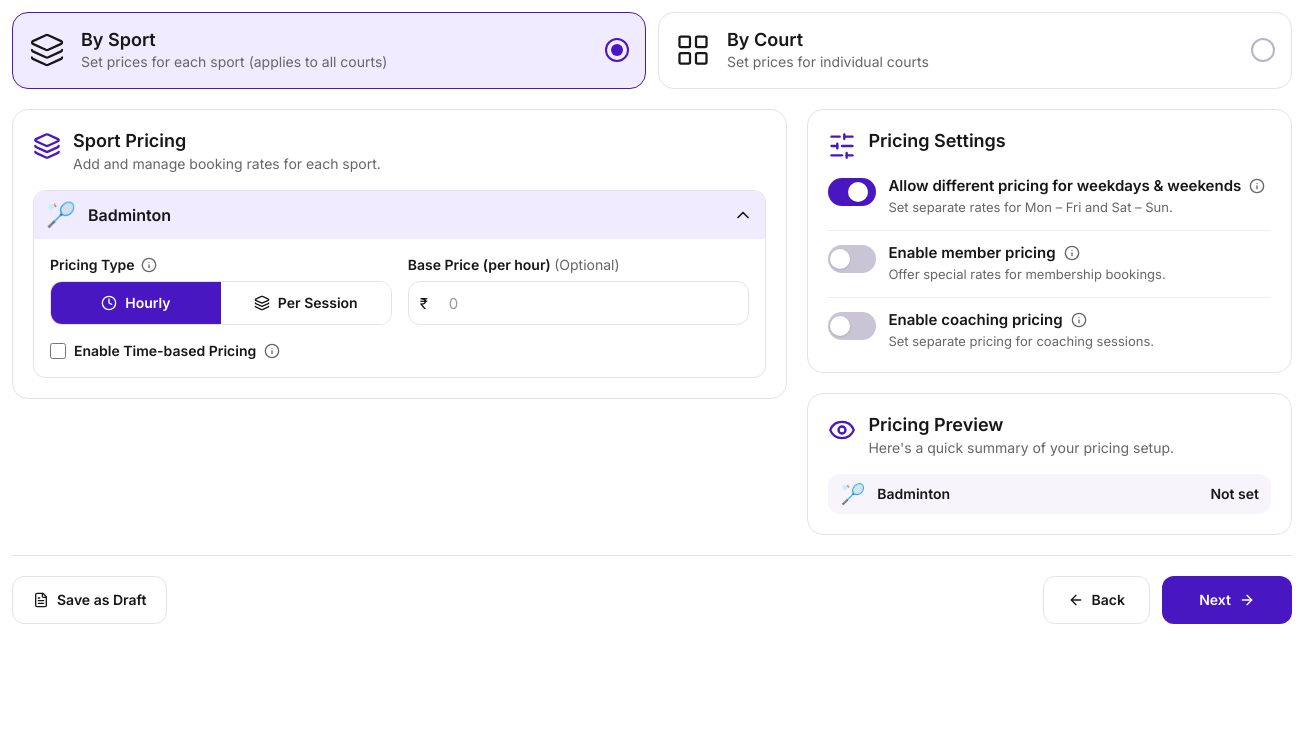
it: PricingSetupForm › Next without a price is refused and nothing is saved
Expected: the field named "Base price per hour" is shown, [408,281,749,325]
Click the button "Next". click: click(1227, 600)
box: [1162,576,1292,624]
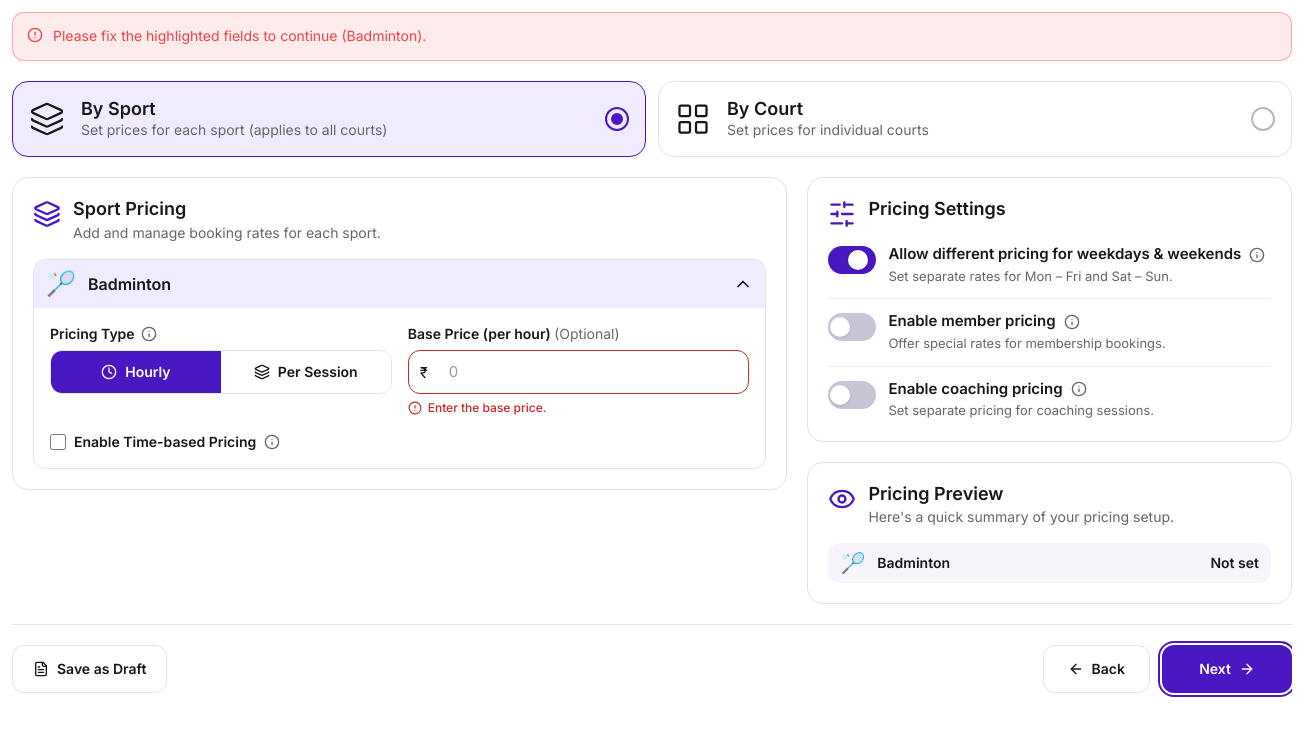
Expected: the text "Please fix the highlighted fields to continue (Badminton)." is shown, [53,25,426,48]
